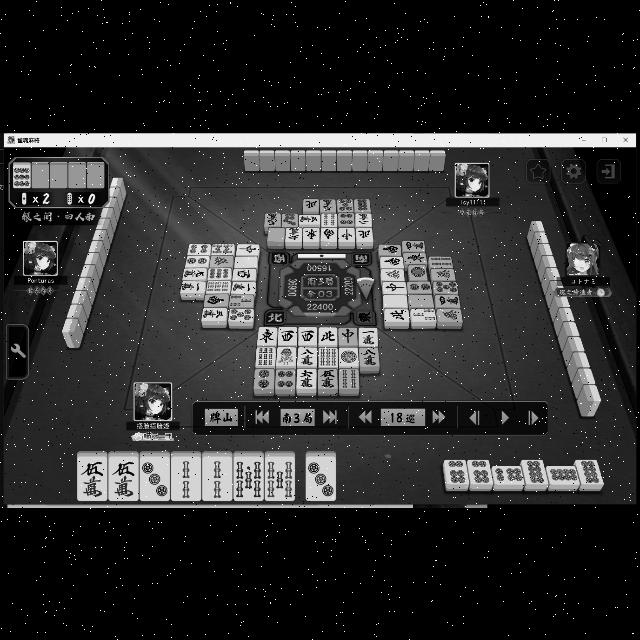1m: (363, 325, 383, 345), (176, 280, 204, 294), (233, 278, 255, 294)
1p: (338, 343, 359, 367), (409, 262, 428, 284)
1s: (280, 348, 296, 370)
2p: (254, 367, 276, 393), (408, 279, 432, 297), (183, 252, 209, 268)
2s: (170, 454, 196, 504), (206, 454, 230, 504)
3m: (201, 308, 225, 322), (297, 213, 321, 224)
3p: (302, 451, 340, 504), (140, 451, 168, 502)
3s: (406, 303, 436, 325), (412, 306, 438, 326), (230, 292, 256, 308)
4m: (433, 292, 465, 310), (402, 235, 426, 253)
4p: (276, 368, 296, 392), (185, 238, 209, 256), (341, 210, 357, 226)
4s: (340, 364, 360, 394), (428, 253, 454, 267), (321, 209, 337, 227)
5m: (76, 452, 106, 500), (107, 452, 135, 501), (318, 365, 334, 393)
5p: (228, 306, 255, 324), (338, 195, 357, 211), (436, 281, 459, 293)
5s: (262, 448, 298, 502), (234, 454, 262, 502)
6m: (295, 367, 315, 393), (280, 210, 300, 227), (286, 226, 302, 247)
6p: (440, 454, 470, 490), (469, 451, 493, 487), (490, 467, 522, 488)
6s: (319, 344, 336, 368)
8m: (361, 346, 382, 370), (300, 347, 316, 365)
8p: (574, 452, 606, 498), (522, 453, 548, 489), (544, 462, 578, 486), (352, 194, 372, 212)
8s: (210, 238, 234, 255)
9m: (182, 268, 208, 280), (263, 209, 279, 227), (322, 196, 334, 216)
9p: (12, 162, 30, 190), (208, 267, 230, 279)
9s: (253, 344, 275, 366), (206, 277, 230, 293)
chun: (338, 324, 358, 346), (338, 225, 356, 248), (382, 280, 410, 294), (234, 242, 260, 254)
haku: (232, 252, 258, 270), (380, 291, 408, 307), (408, 292, 434, 308), (267, 228, 285, 250)
hatsu: (436, 305, 466, 325), (379, 268, 405, 280), (209, 254, 233, 266), (432, 268, 456, 280)
nan: (206, 292, 228, 308), (377, 242, 405, 254), (377, 255, 405, 267), (320, 226, 338, 244)
pe: (382, 306, 410, 328), (320, 324, 338, 348), (356, 225, 374, 243)
sha: (296, 324, 316, 346), (279, 324, 295, 344)
tou: (258, 325, 276, 347), (404, 249, 428, 263), (303, 227, 319, 246)
